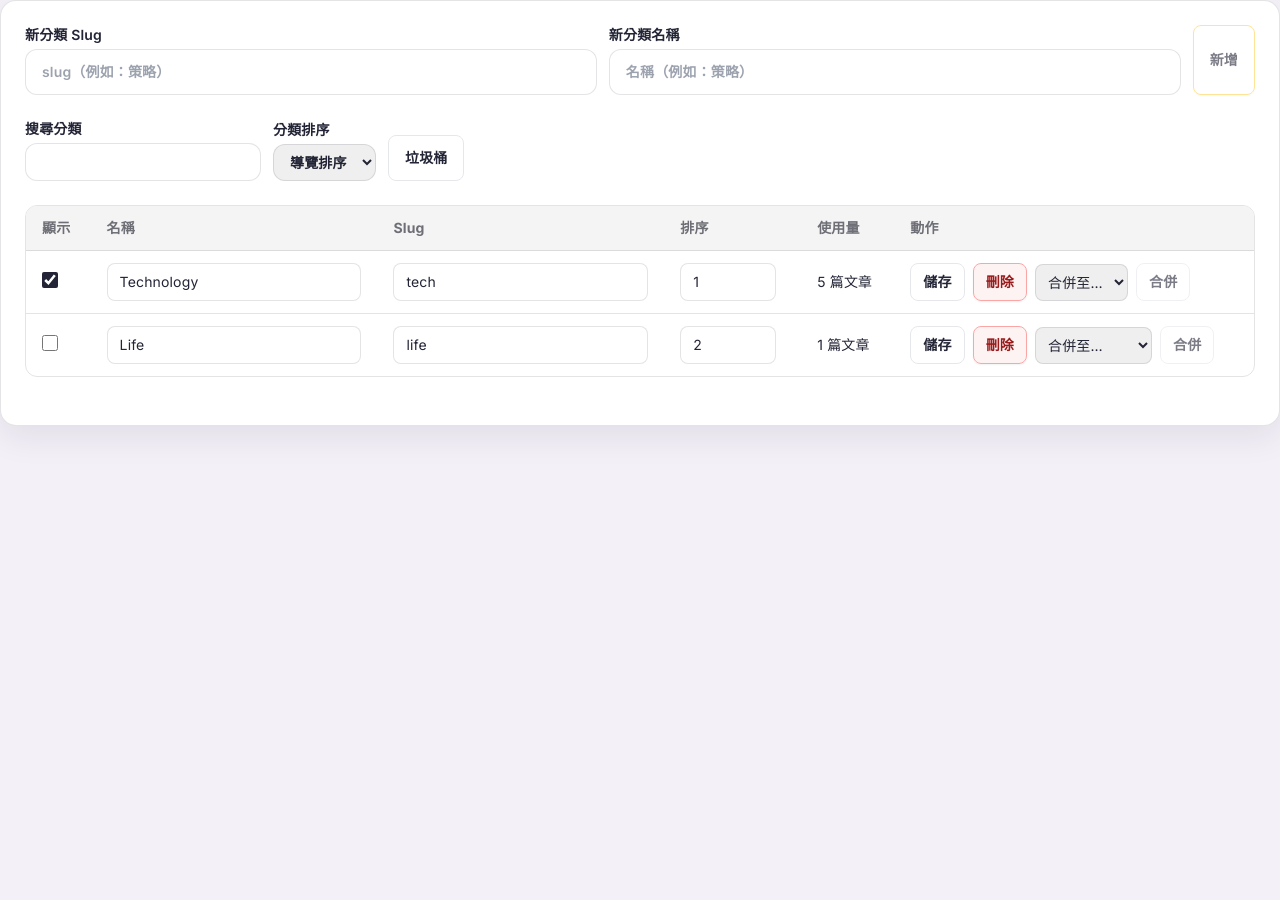
CategoryAdminClient › 合併分類失敗時仍會關閉確認對話框並顯示錯誤
Select "Life" in the dropdown named "Technology 合併目標" at (1082, 282), box [1035,264,1128,300]
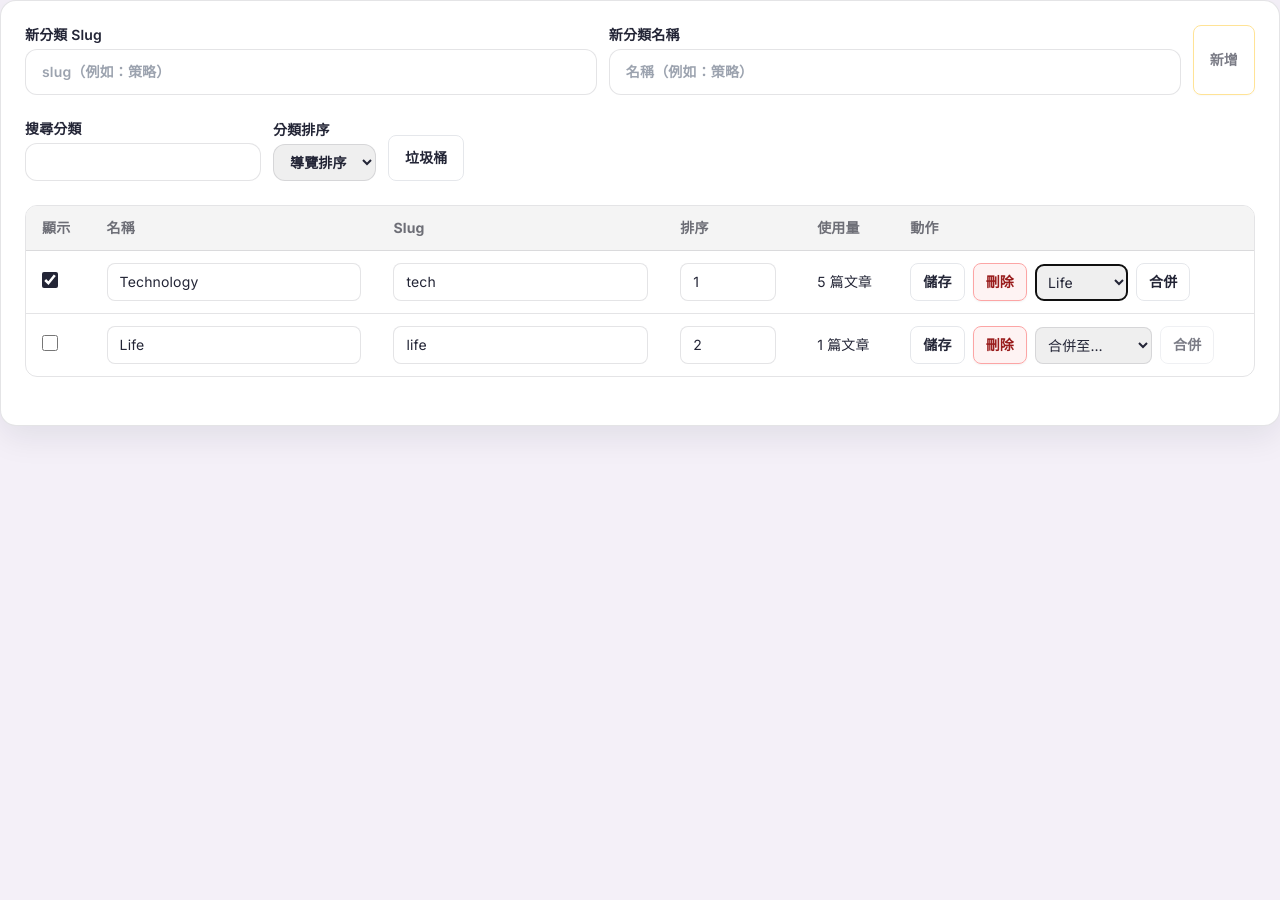
Click the button with aria-label "合併 Technology".
click(1163, 282)  # box [1136,263,1190,301]
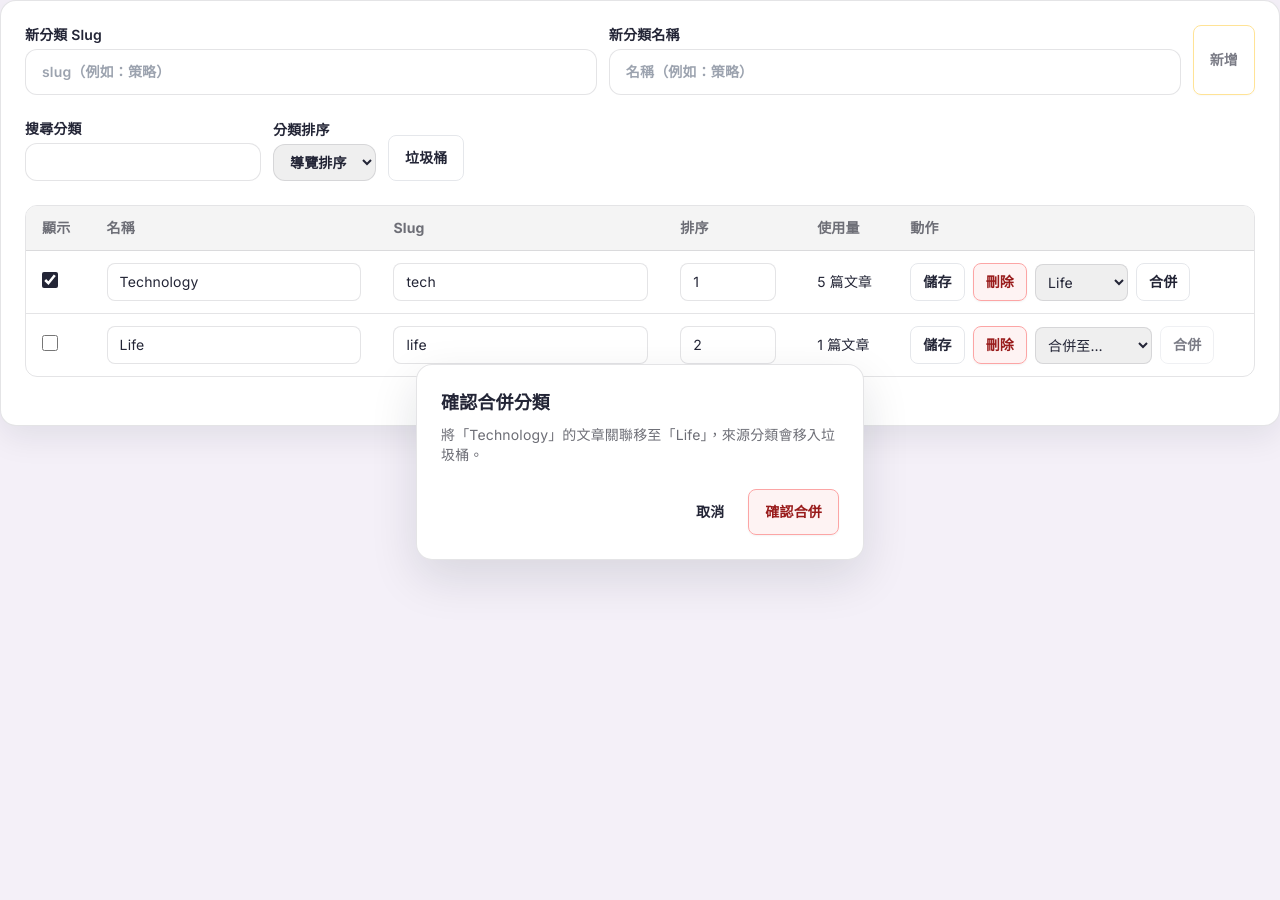
Result: the dialog "確認合併分類" is shown at [416,364,864,560]
Click the button "確認合併".
click(794, 512)  # box [748,489,839,535]
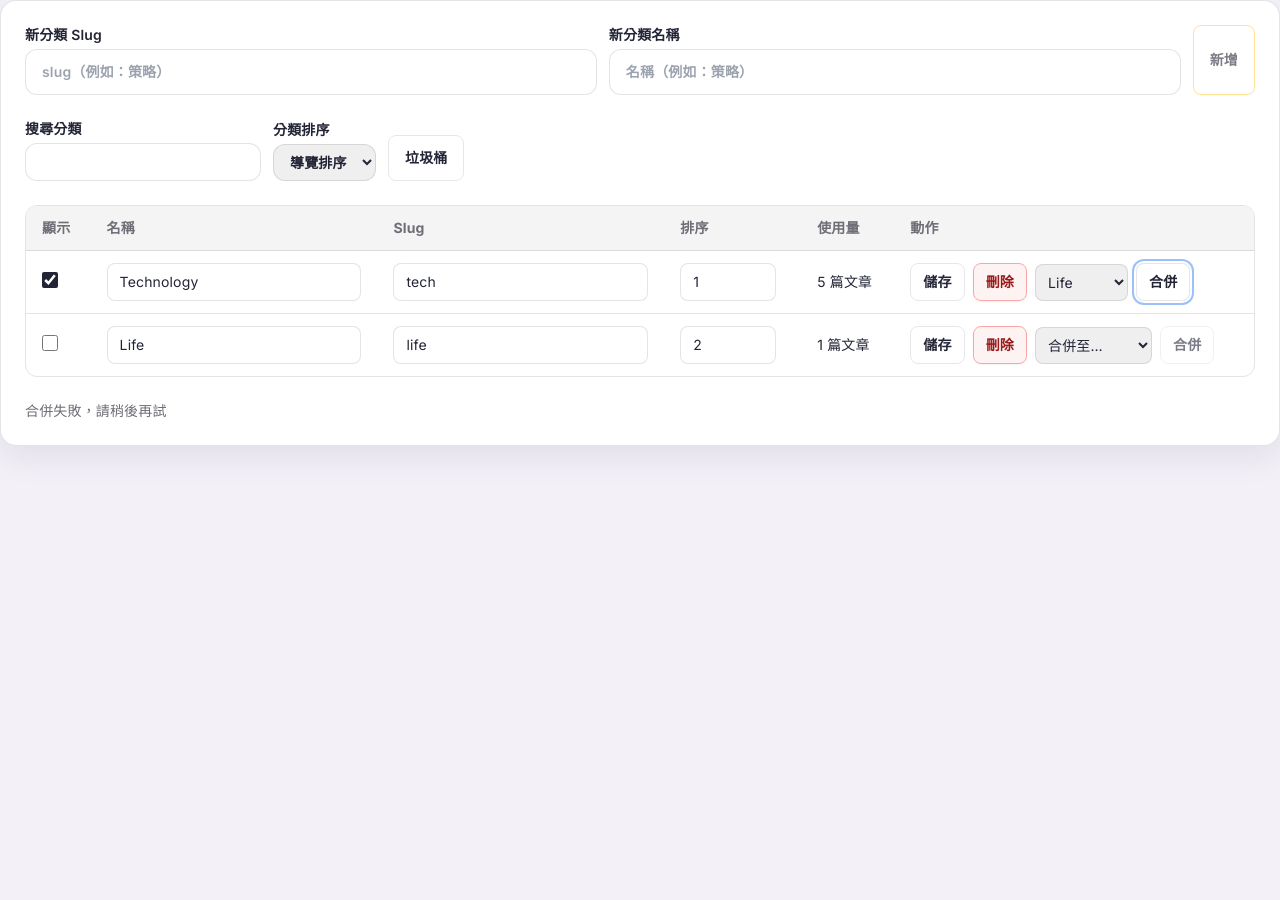
Result: the text "合併失敗，請稍後再試" is shown at [25,402,167,419]
Result: the heading "確認合併分類" is gone
